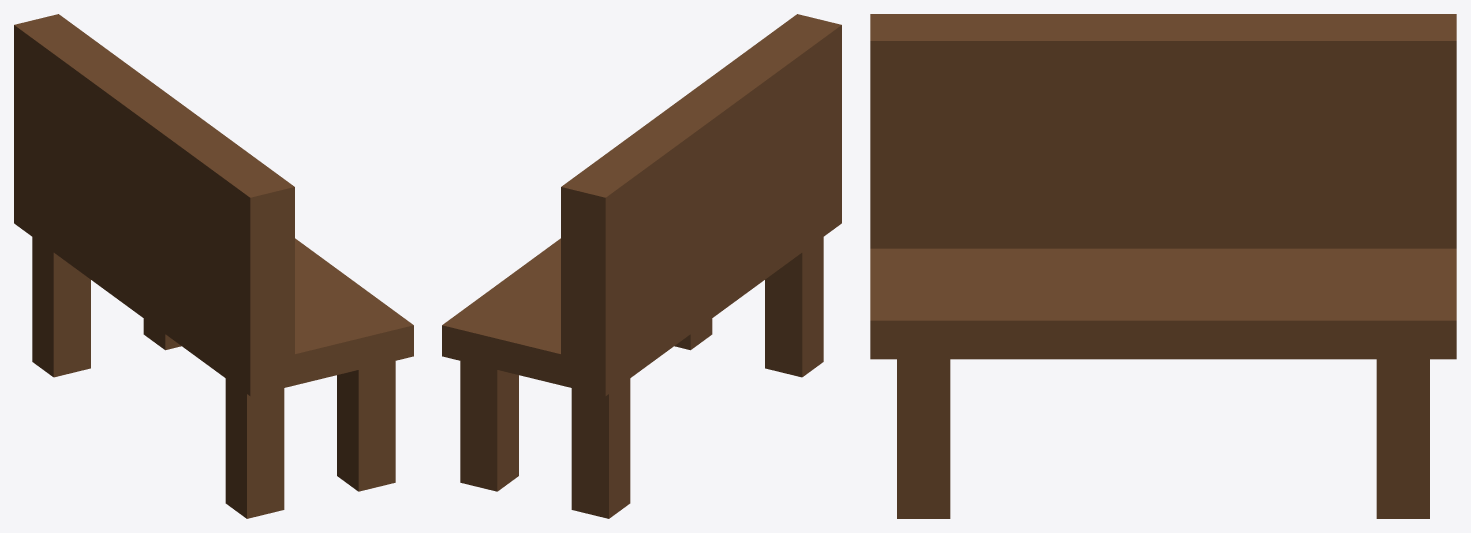
File: bench.obj
3 views of the same model, side by side, from view 1: azimuth 30°, elevation 25°; view 2: azimuth 150°, elevation 25°; view 3: azimuth 270°, elevation 25° (orthographic). The views are drawn at different scales.
Size of the model in its own units: 0.44 by 0.85 by 1.1.
